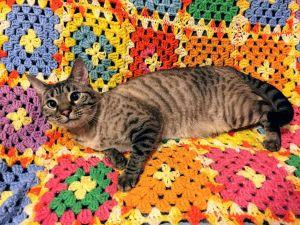bengal: (23, 57, 102, 132)
